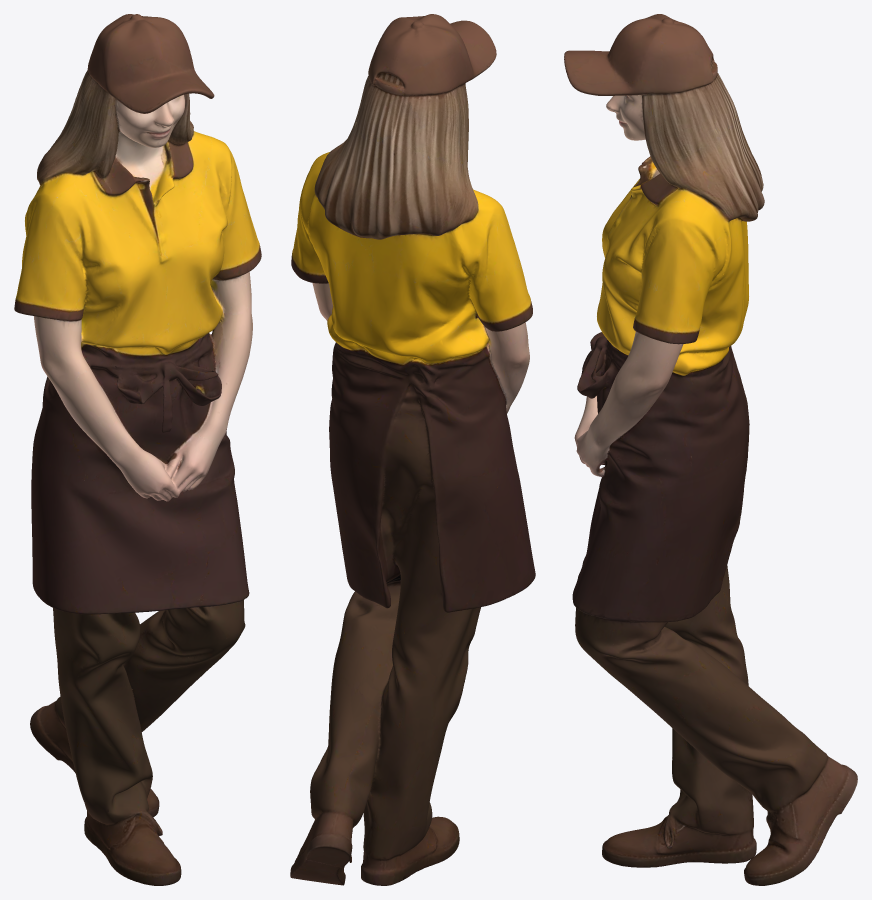
Rendered from Staff.glb.
3 renders of one model, left to right at view 1: azimuth 30°, elevation 25°; view 2: azimuth 150°, elevation 25°; view 3: azimuth 270°, elevation 25°, orthographic.
Parts seen in each view (by area): view 1: Object_5; view 2: Object_5; view 3: Object_5.
Boxes of the visible parts, bbox=[...] form: Object_5: bbox=[14, 14, 261, 885]; Object_5: bbox=[290, 14, 535, 885]; Object_5: bbox=[564, 14, 857, 885].
Size of the model in its own units: 0.5651 by 1.9 by 0.6033.
Materials: 1 (1 with a texture image).
